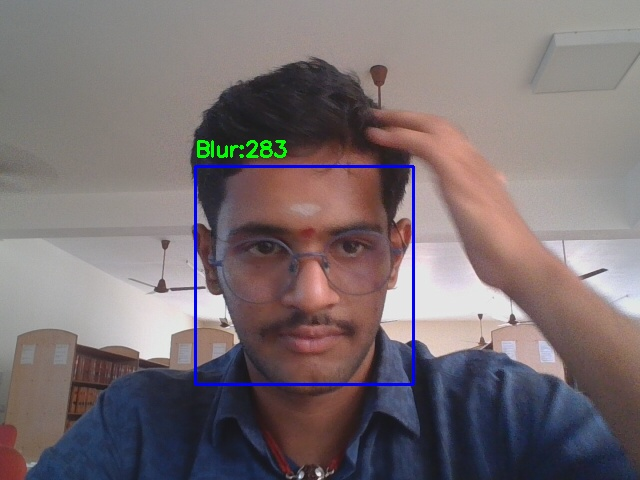real: (195, 166, 413, 384)
